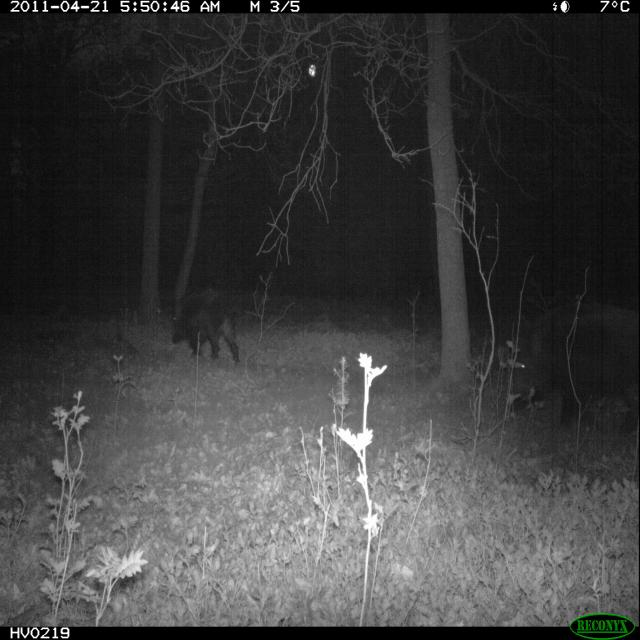boar: (134, 270, 284, 376)
